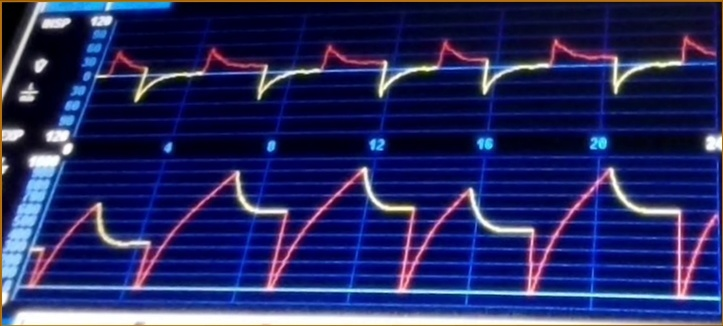Flow: (104, 27, 718, 124)
Leakage Volume: (25, 168, 716, 305)
